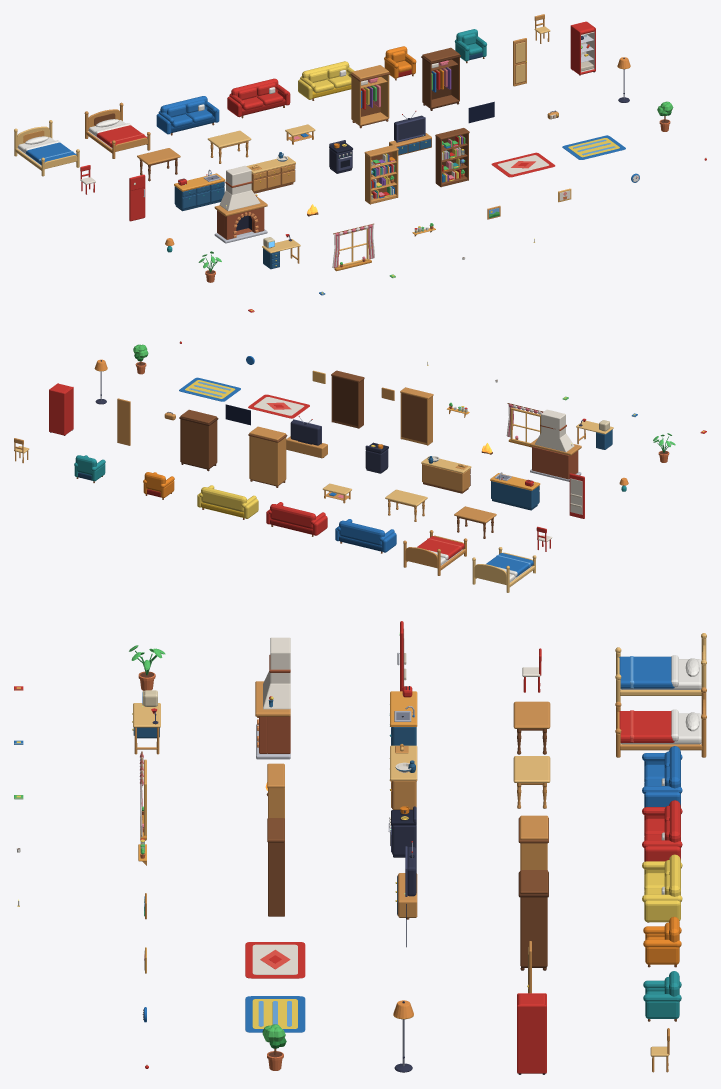
Rendered from furniture.glb.
3 renders of one model, top to bottom at view 1: azimuth 30°, elevation 25°; view 2: azimuth 150°, elevation 25°; view 3: azimuth 270°, elevation 25°, orthographic. The views are drawn at different scales.
Parts seen in each view (by area): view 1: fu_fireplace_LOD0, fu_wardrobe_v0_LOD0, fu_wardrobe_v1_LOD0, fu_bed_v0_LOD0, fu_bed_v1_LOD0, fu_bookshelf_v0_LOD0, fu_bookshelf_v1_LOD0, fu_sofa_v1_LOD0, fu_sofa_v0_LOD0, fu_sofa_v2_LOD0, fu_counter_v0_LOD0, fu_counter_v1_LOD0 (+13 smaller); view 2: fu_fireplace_LOD0, fu_wardrobe_v0_LOD0, fu_wardrobe_v1_LOD0, fu_bookshelf_v0_LOD0, fu_bookshelf_v1_LOD0, fu_bed_v0_LOD0, fu_bed_v1_LOD0, fu_counter_v1_LOD0, fu_counter_v0_LOD0, fu_sofa_v0_LOD0, fu_sofa_v1_LOD0, fu_sofa_v2_LOD0 (+14 smaller); view 3: fu_bed_v1_LOD0, fu_bed_v0_LOD0, fu_fireplace_LOD0, fu_wardrobe_v1_LOD0, fu_fridge_LOD0, fu_sofa_v2_LOD0, fu_rug_v0_LOD0, fu_rug_v1_LOD0, fu_sofa_v1_LOD0, fu_sofa_v0_LOD0, fu_counter_v1_LOD0, fu_bookshelf_v1_LOD0 (+11 smaller).
Part boxes in pixels (bbox=[...]): fu_fireplace_LOD0: bbox=[214, 165, 267, 243]; fu_wardrobe_v0_LOD0: bbox=[350, 65, 390, 128]; fu_wardrobe_v1_LOD0: bbox=[421, 47, 460, 110]; fu_bed_v0_LOD0: bbox=[14, 120, 79, 176]; fu_bed_v1_LOD0: bbox=[84, 102, 150, 158]; fu_bookshelf_v0_LOD0: bbox=[364, 145, 398, 204]; fu_bookshelf_v1_LOD0: bbox=[435, 128, 469, 187]; fu_sofa_v1_LOD0: bbox=[227, 78, 290, 118]; fu_sofa_v0_LOD0: bbox=[156, 96, 219, 135]; fu_sofa_v2_LOD0: bbox=[298, 61, 354, 100]; fu_counter_v0_LOD0: bbox=[174, 169, 225, 211]; fu_counter_v1_LOD0: bbox=[246, 152, 295, 193]; fu_fireplace_LOD0: bbox=[530, 409, 581, 481]; fu_wardrobe_v0_LOD0: bbox=[248, 426, 287, 487]; fu_wardrobe_v1_LOD0: bbox=[179, 409, 218, 471]; fu_bookshelf_v0_LOD0: bbox=[400, 387, 433, 445]; fu_bookshelf_v1_LOD0: bbox=[331, 370, 364, 428]; fu_bed_v0_LOD0: bbox=[472, 547, 536, 592]; fu_bed_v1_LOD0: bbox=[403, 530, 467, 575]; fu_counter_v1_LOD0: bbox=[421, 456, 471, 493]; fu_counter_v0_LOD0: bbox=[490, 472, 540, 510]; fu_sofa_v0_LOD0: bbox=[335, 519, 396, 553]; fu_sofa_v1_LOD0: bbox=[266, 502, 327, 536]; fu_sofa_v2_LOD0: bbox=[197, 485, 258, 519]; fu_bed_v1_LOD0: bbox=[615, 687, 706, 757]; fu_bed_v0_LOD0: bbox=[615, 633, 706, 702]; fu_fireplace_LOD0: bbox=[255, 637, 290, 759]; fu_wardrobe_v1_LOD0: bbox=[518, 870, 548, 970]; fu_fridge_LOD0: bbox=[517, 993, 546, 1074]; fu_sofa_v2_LOD0: bbox=[642, 854, 682, 922]; fu_rug_v0_LOD0: bbox=[245, 942, 305, 978]; fu_rug_v1_LOD0: bbox=[245, 996, 305, 1032]; fu_sofa_v1_LOD0: bbox=[642, 800, 682, 861]; fu_sofa_v0_LOD0: bbox=[642, 746, 682, 807]; fu_counter_v1_LOD0: bbox=[389, 744, 417, 809]; fu_bookshelf_v1_LOD0: bbox=[267, 818, 284, 916].
Size of the model in its own units: 22.16 by 3.31 by 16.2.
